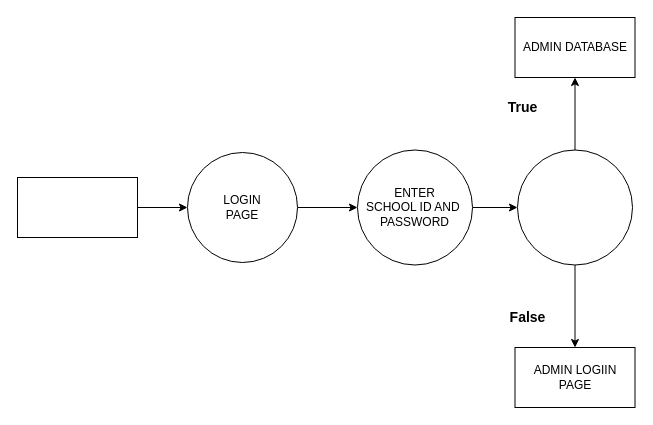
The diagram is 653 pixels wide and 425 high, and some of its shapes have lost their labels. The shapes that lost their labels are listed below. From the top down, each one's centre as x and y in pixels, then its label:
point 77,207: HOME
point 574,207: CHECK VALIDITY
